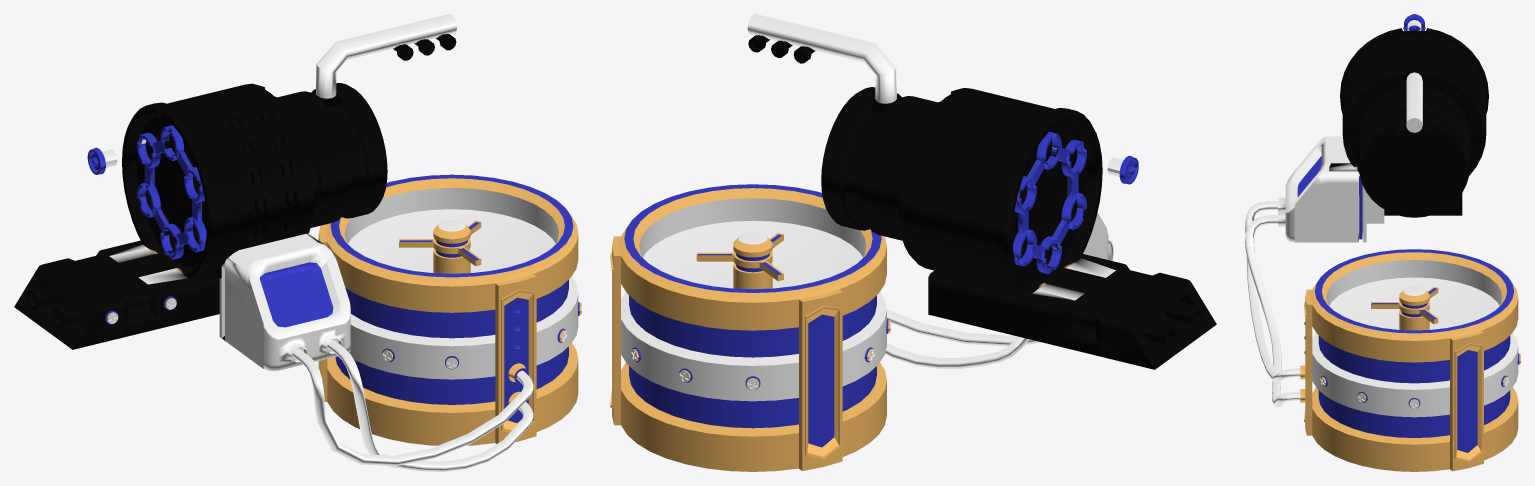
File: Beans_low.fbx
3 views of the same model, side by side, from view 1: azimuth 30°, elevation 25°; view 2: azimuth 150°, elevation 25°; view 3: azimuth 270°, elevation 25° (orthographic). The views are drawn at different scales.
Visible parts, largest first — view 1: Beans_Main; view 2: Beans_Main; view 3: Beans_Main.
Boxes of the visible parts, x1,y1,x2,y2 form: Beans_Main: [14, 14, 581, 471]; Beans_Main: [610, 14, 1216, 471]; Beans_Main: [1245, 14, 1520, 471].
Bounding box in the file's own units: 646 × 447 × 360.
